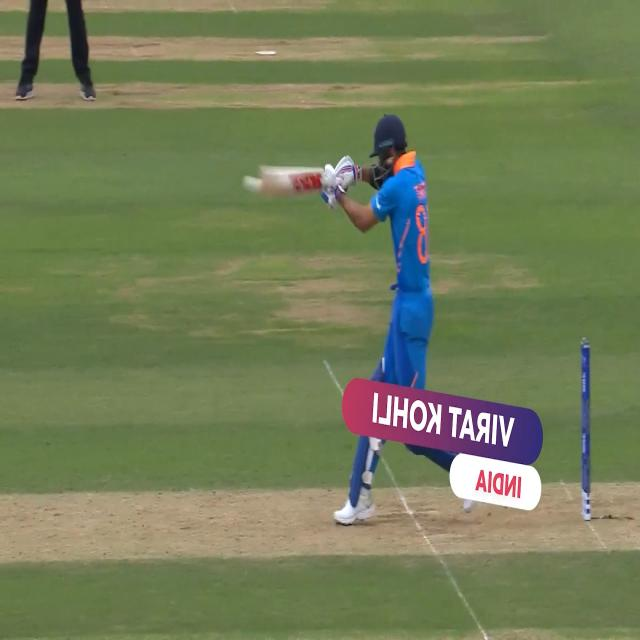ball: (241, 172, 261, 199)
